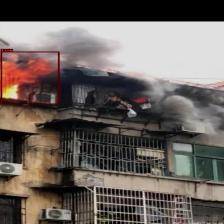fire: (0, 51, 59, 104)
